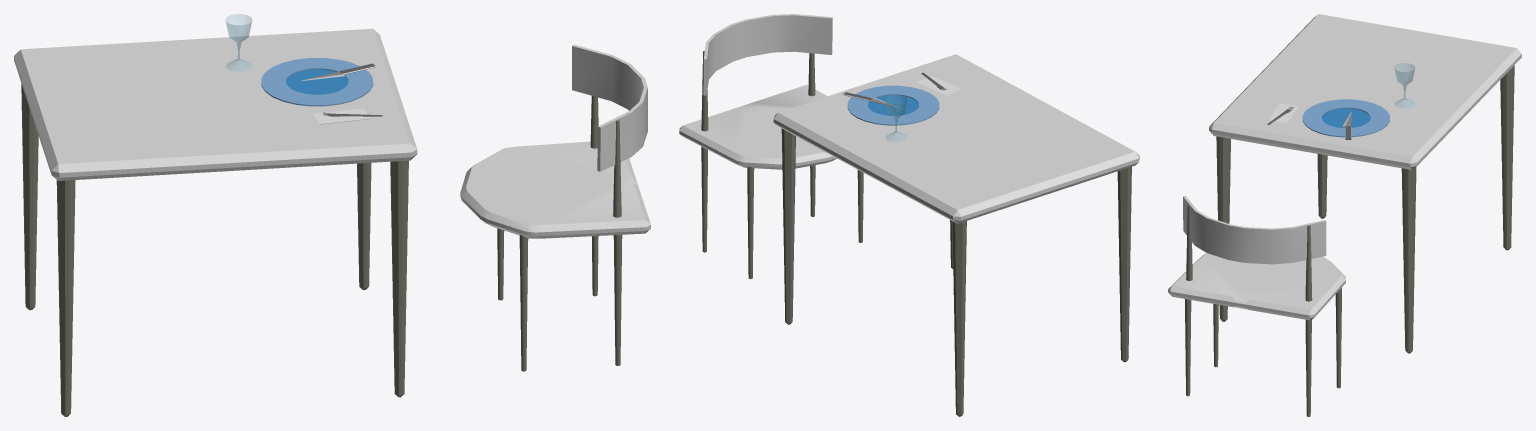
Rendered from knife.dae.
The picture shows the model from 3 angles, left to right: view 1: azimuth 30°, elevation 25°; view 2: azimuth 150°, elevation 25°; view 3: azimuth 270°, elevation 25°; orthographic projection. The views are drawn at different scales.
Visible parts, largest first — view 1: polySurface40, polySurface29, polySurface30, polySurface19, polySurface41, polySurface38, polySurface42, polySurface39, polySurface35, polySurface34, polySurface22, polySurface31; view 2: polySurface40, polySurface29, polySurface30, polySurface19, polySurface42, polySurface41, polySurface39, polySurface36, polySurface33, polySurface22; view 3: polySurface40, polySurface29, polySurface30, polySurface19, polySurface39, polySurface42, polySurface38, polySurface41, polySurface36, polySurface33, polySurface34, polySurface22 (+3 smaller).
Boxes of the visible parts, <box> form: polySurface40: <box>14,28,417,180</box>; polySurface29: <box>460,141,650,238</box>; polySurface30: <box>572,44,647,171</box>; polySurface19: <box>261,58,373,106</box>; polySurface41: <box>56,180,75,416</box>; polySurface38: <box>390,160,408,397</box>; polySurface42: <box>21,83,38,310</box>; polySurface39: <box>357,162,371,290</box>; polySurface35: <box>519,235,528,371</box>; polySurface34: <box>613,234,622,365</box>; polySurface22: <box>226,14,251,71</box>; polySurface31: <box>613,119,621,217</box>; polySurface40: <box>773,54,1139,223</box>; polySurface29: <box>679,84,836,169</box>; polySurface30: <box>703,14,832,95</box>; polySurface19: <box>847,85,939,125</box>; polySurface42: <box>952,221,966,416</box>; polySurface41: <box>1117,166,1131,362</box>; polySurface39: <box>781,128,795,324</box>; polySurface36: <box>747,167,754,279</box>; polySurface33: <box>701,146,707,252</box>; polySurface22: <box>885,95,906,141</box>; polySurface40: <box>1209,14,1521,169</box>; polySurface29: <box>1168,253,1345,320</box>; polySurface30: <box>1183,196,1326,264</box>; polySurface19: <box>1302,99,1389,137</box>; polySurface39: <box>1401,167,1416,353</box>; polySurface42: <box>1500,65,1514,250</box>; polySurface38: <box>1216,136,1230,321</box>; polySurface41: <box>1317,154,1327,218</box>; polySurface36: <box>1335,288,1341,388</box>; polySurface33: <box>1305,320,1311,416</box>; polySurface34: <box>1185,299,1191,396</box>; polySurface22: <box>1394,63,1414,107</box>.
Size of what is drawn, in the model's own units: 147 by 75.13 by 102.
